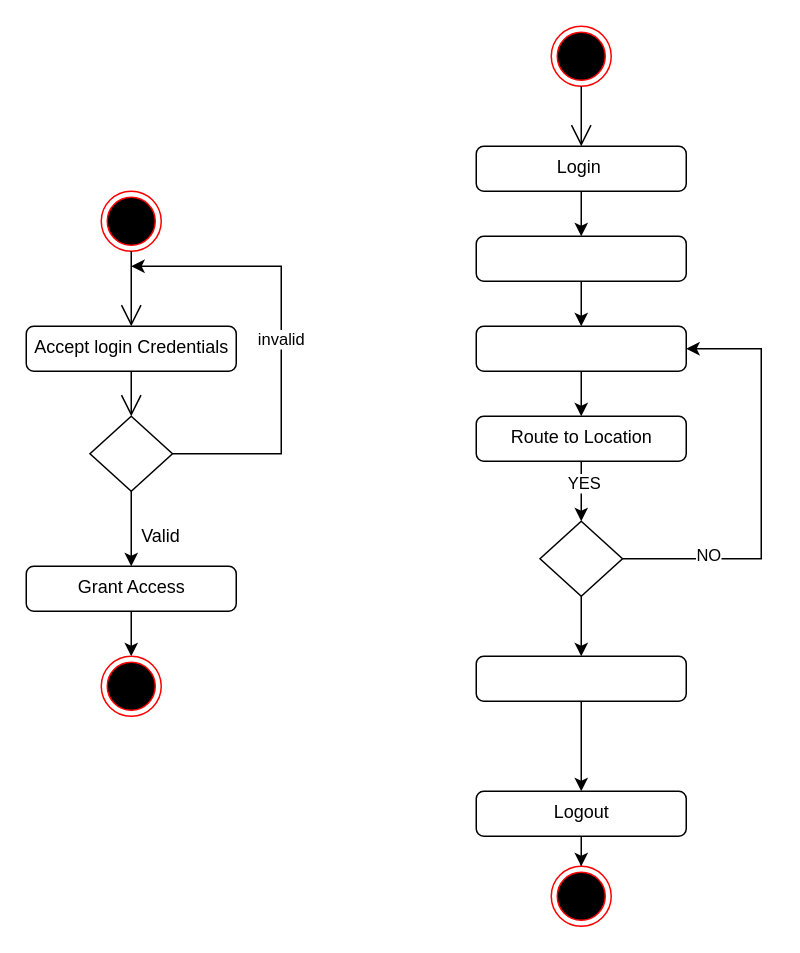
Image size: 800x953. Some labels were removed from this diagram. The shapes that lost their labels are listed below. From the top down, each one's centre as x and y in pixels, then its label:
(580,258): List Available location
(580,348): Select location
(580,678): Display Map
